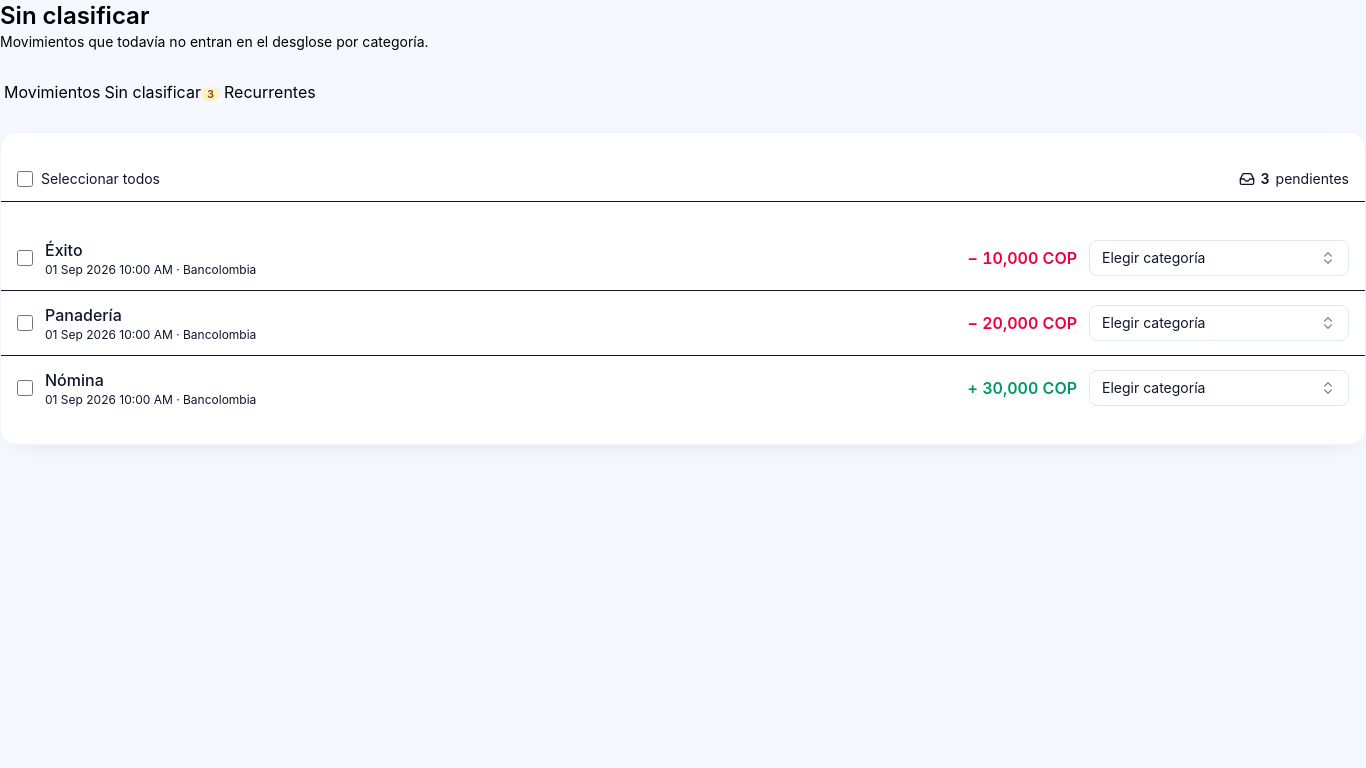
Test: bandeja de pendientes › «seleccionar todos» marca la página entera
The image size is (1366, 768).
Expected: the text "Éxito" is shown, left=45, top=240, right=82, bottom=260
Step 1. Click the checkbox named "seleccionar todos los de esta página" → [25, 179], box left=17, top=171, right=33, bottom=187
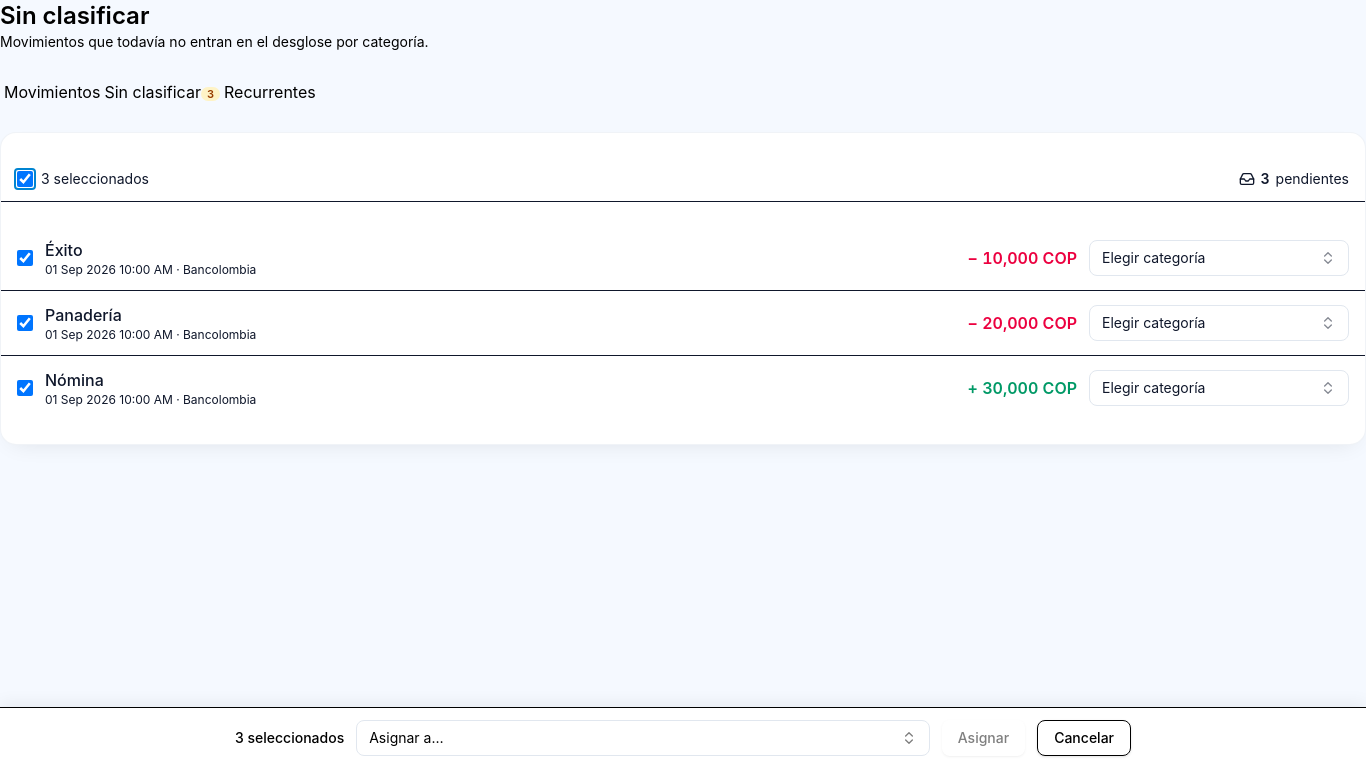
Expected: the text "3 seleccionados" is shown 2 times, left=41, top=169, right=149, bottom=189; left=235, top=728, right=344, bottom=748
